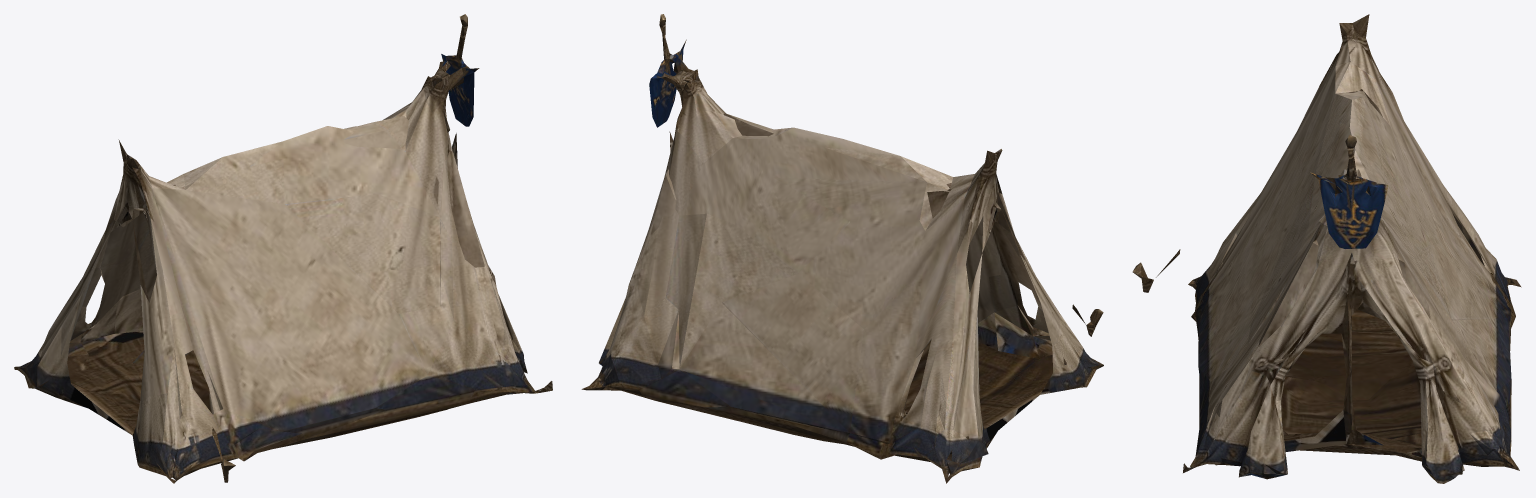
Rendered from war_tent.glb.
3 views of the same model, side by side, from view 1: azimuth 30°, elevation 25°; view 2: azimuth 150°, elevation 25°; view 3: azimuth 270°, elevation 25° (orthographic). The views are drawn at different scales.
Parts seen in each view (by area): view 1: output_unwrapped; view 2: output_unwrapped; view 3: output_unwrapped.
Boxes of the visible parts, x1,y1,x2,y2 form: output_unwrapped: (14, 14, 552, 483); output_unwrapped: (581, 14, 1103, 483); output_unwrapped: (1132, 14, 1521, 483).
Size of the model in its own units: 1.82 by 1.43 by 1.48.
1 material, 1 textured.
